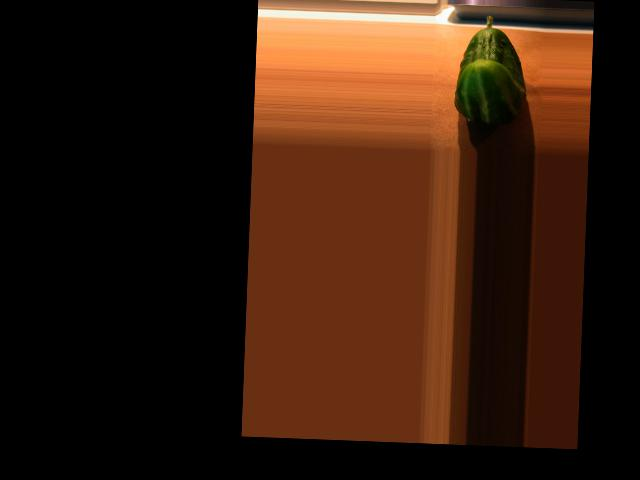cucumber: (452, 13, 528, 125)
